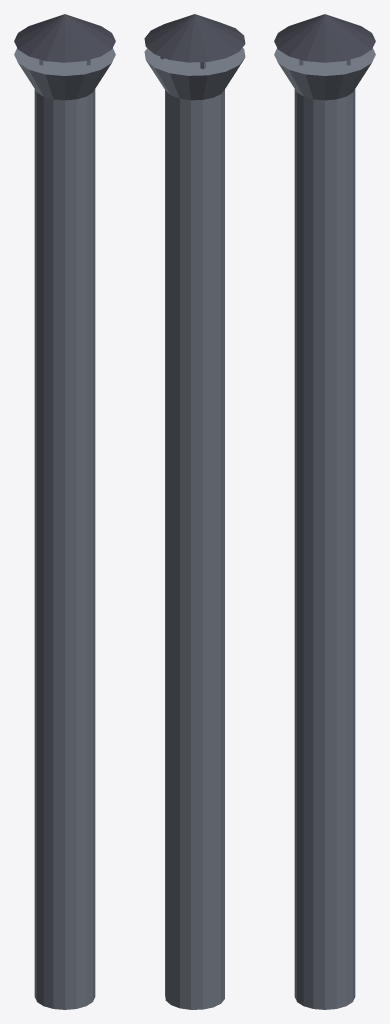
The picture shows the model from 3 angles, left to right: view 1: azimuth 90°, elevation 25°; view 2: azimuth 150°, elevation 25°; view 3: azimuth 270°, elevation 25°; orthographic projection.
Visible parts, largest first — view 1: Cylinder.014; view 2: Cylinder.014; view 3: Cylinder.014.
Boxes of the visible parts, x1,y1,x2,y2 form: Cylinder.014: (14,14,115,1009); Cylinder.014: (144,14,245,1009); Cylinder.014: (274,14,375,1009).
Size of the model in its own units: 0.4052 by 4.31 by 0.4052.
